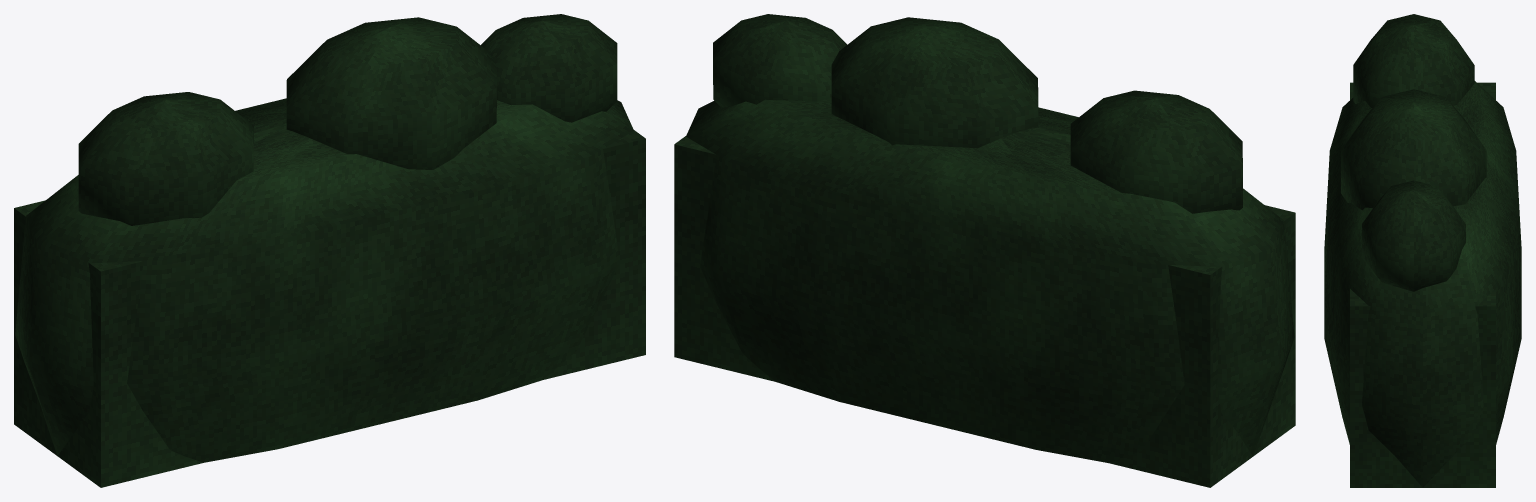
File: town_hedge.glb
3 renders of one model, left to right at view 1: azimuth 30°, elevation 25°; view 2: azimuth 150°, elevation 25°; view 3: azimuth 270°, elevation 25°, orthographic. The views are drawn at different scales.
Parts seen in each view (by area): view 1: leaves, hedge-col; view 2: leaves, hedge-col; view 3: leaves, hedge-col.
Boxes of the visible parts, x1=… form: leaves: x1=15, y1=14, x2=633, y2=462; hedge-col: x1=14, y1=130, x2=645, y2=487; leaves: x1=686, y1=14, x2=1294, y2=463; hedge-col: x1=674, y1=136, x2=1295, y2=487; leaves: x1=1324, y1=14, x2=1521, y2=487; hedge-col: x1=1350, y1=82, x2=1495, y2=487.
Bounding box in the file's own units: 3.2 × 1.8 × 1.08.
1 material, 1 textured.
